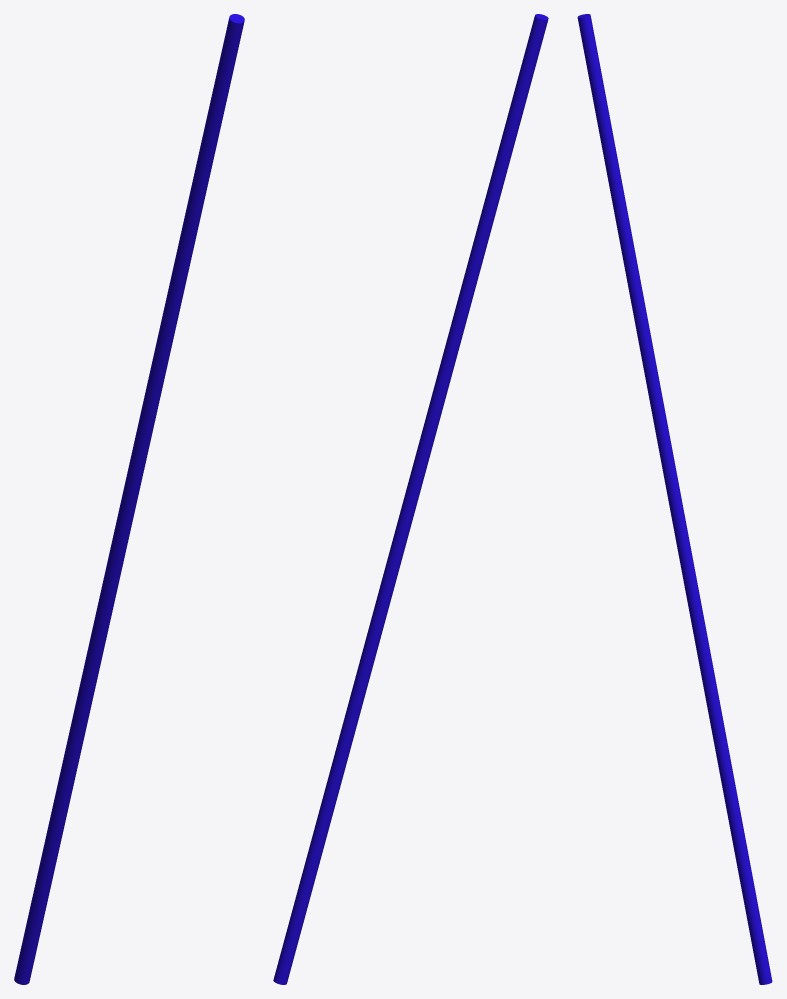
3 renders of one model, left to right at view 1: azimuth 90°, elevation 25°; view 2: azimuth 150°, elevation 25°; view 3: azimuth 270°, elevation 25°, orthographic. The views are drawn at different scales.
Visible parts, largest first — view 1: Циліндр.006; view 2: Циліндр.006; view 3: Циліндр.006.
Boxes of the visible parts, x1,y1,x2,y2 form: Циліндр.006: (14, 14, 244, 984); Циліндр.006: (273, 14, 548, 984); Циліндр.006: (577, 14, 772, 984).
Size of the model in its own units: 1.41 by 7.1 by 1.41.
